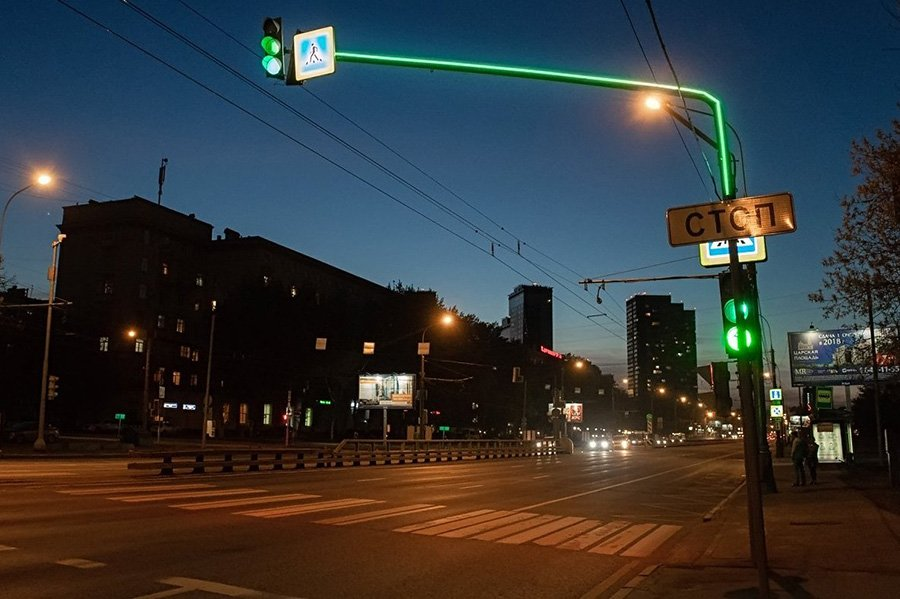tl: (718, 268, 761, 357), (255, 15, 286, 77)
